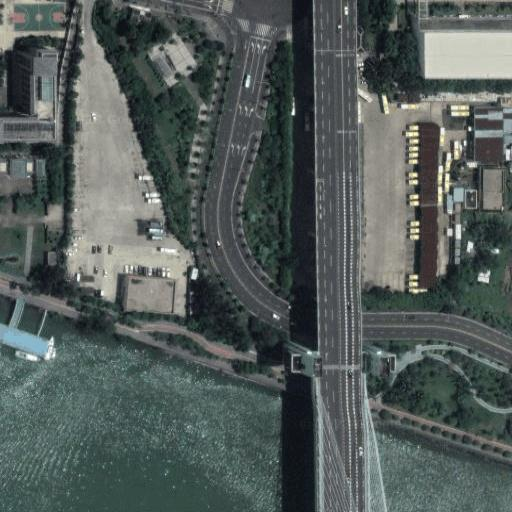building: (419, 19, 512, 81), (0, 48, 44, 135), (416, 122, 437, 285), (144, 33, 198, 89), (474, 109, 506, 168), (122, 277, 173, 313), (481, 167, 507, 215), (0, 153, 27, 167), (42, 246, 57, 266)
